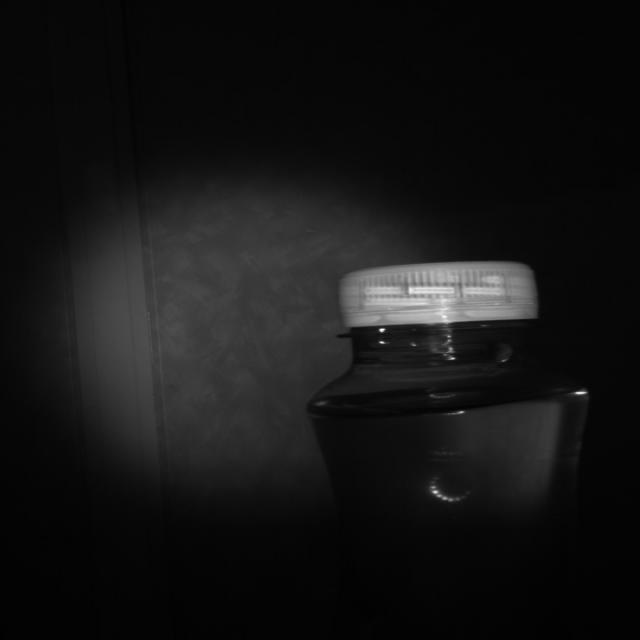Good: (338, 258, 540, 329)
